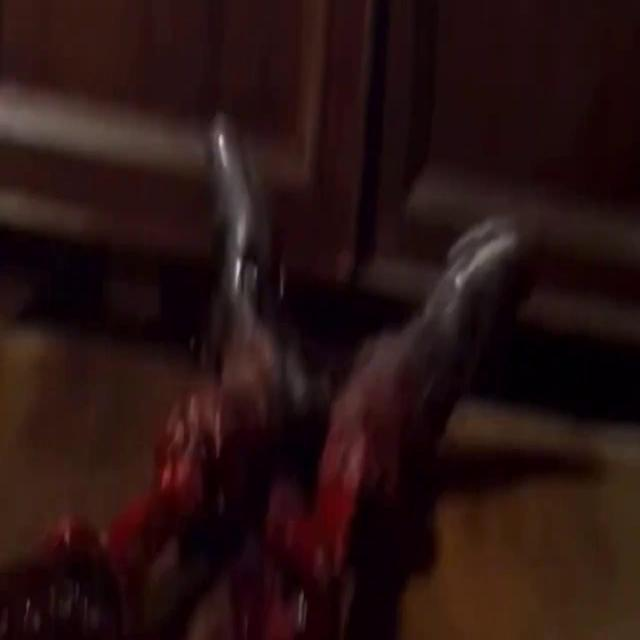flood: (130, 346, 406, 640)
